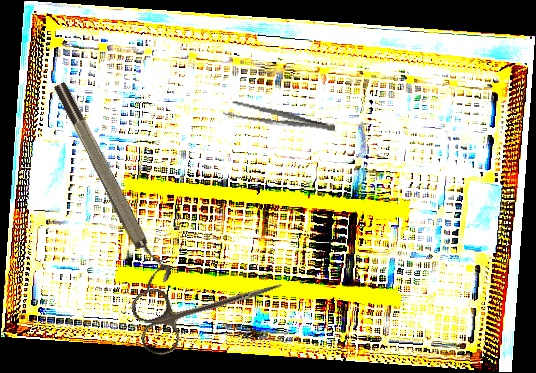Dressing Forceps: (222, 99, 337, 137)
Fixation Ring: (49, 75, 176, 291)
Iris Scissors: (127, 250, 292, 360)
